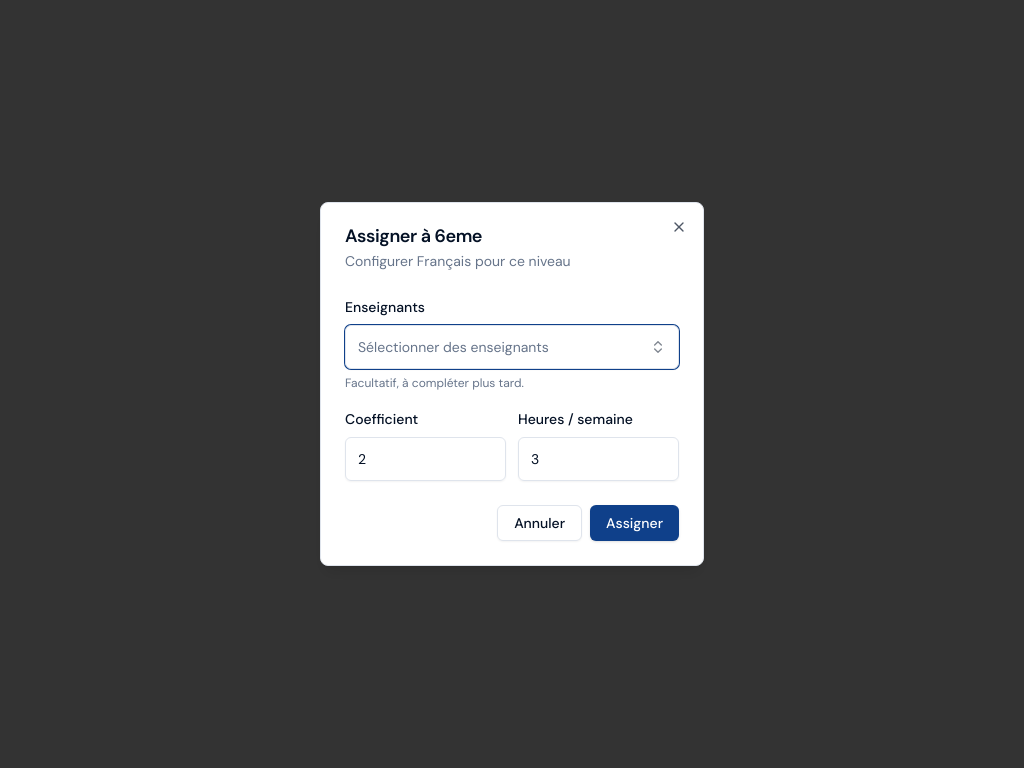
Scenario: assigner une matière à un niveau › refuse toujours la même matière déjà posée sur ce niveau
What coordinates should you click on to do the following:
click the button "Assigner"
I would click on:
 (634, 523)
Its box is x1=590 y1=505 x2=679 y2=541.
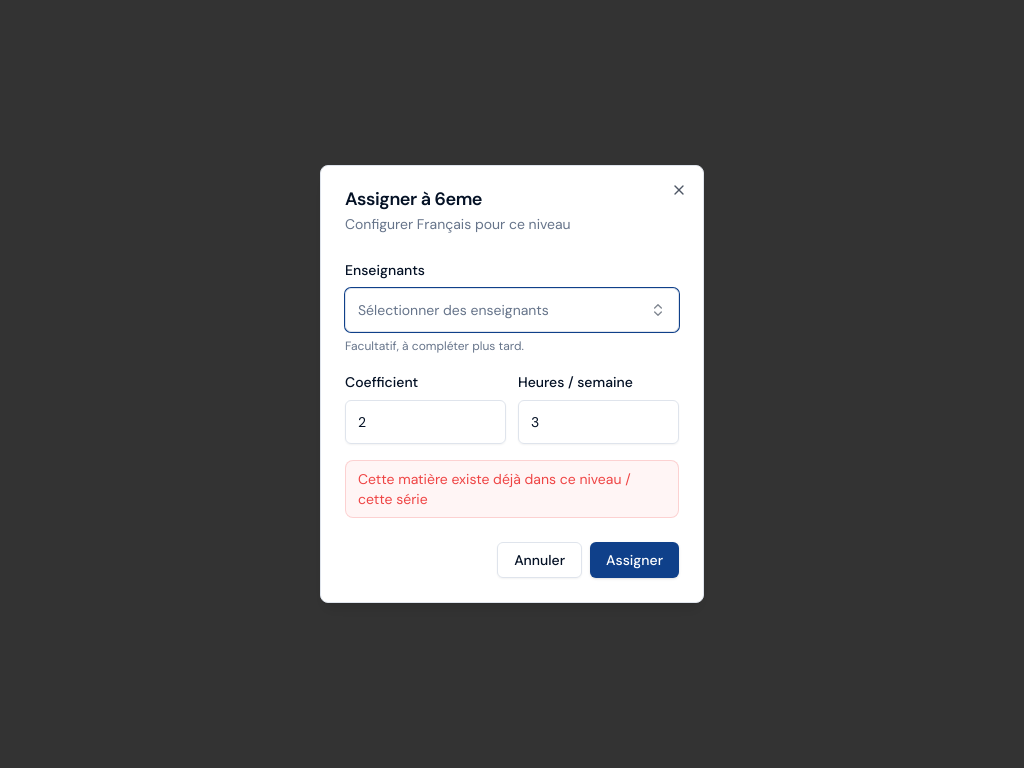
Check: the text "Cette matière existe déjà dans ce niveau / cette série" is shown, box x1=358 y1=469 x2=666 y2=509
